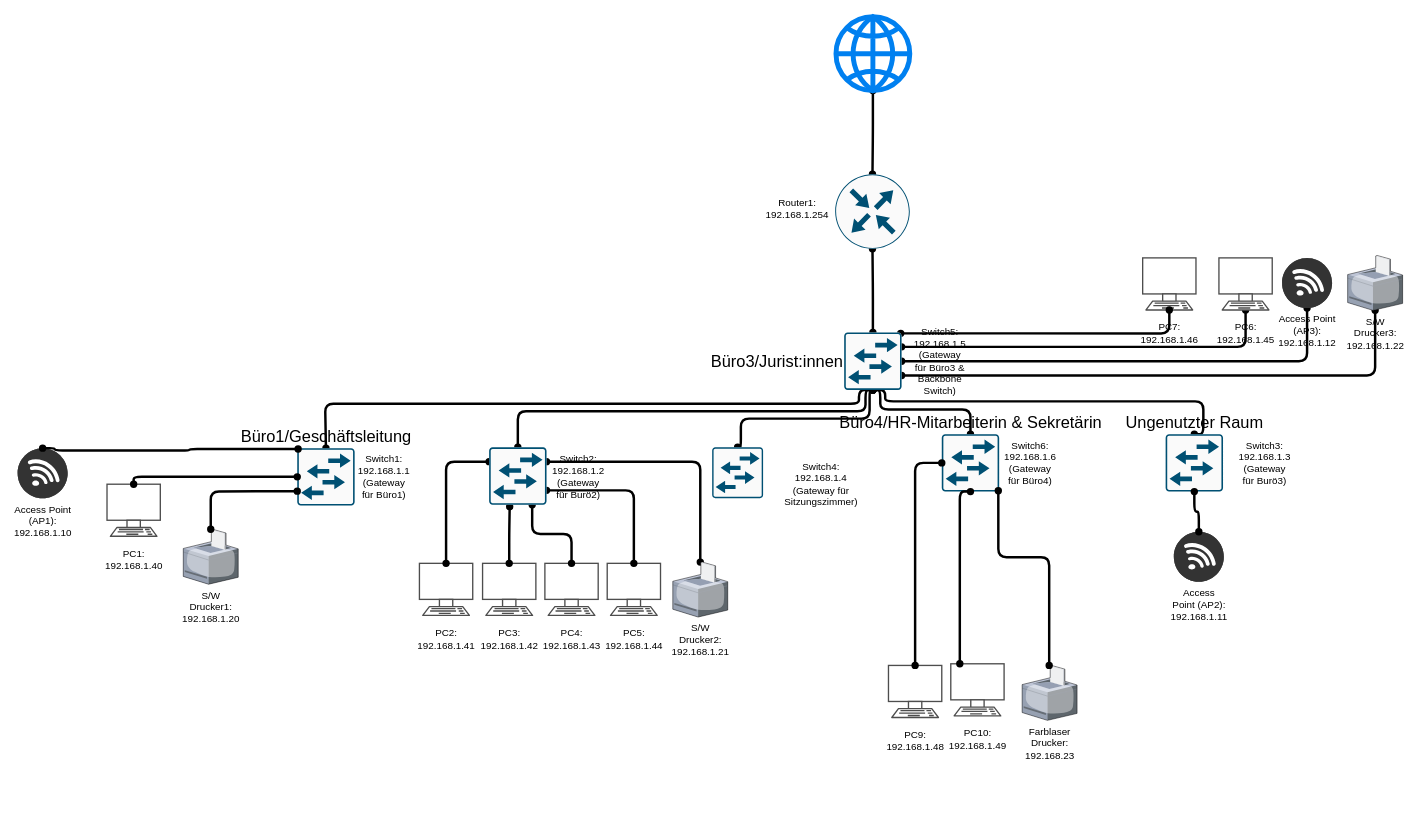
Image size: 1418x835. Some labels were removed from this diagram. The box of each missing label's shape, as (x1, y1, x2, y2) in pixels:
Büro2/Buchalter:innen: (488, 446, 547, 505)
Sitzungszimmer: (711, 446, 763, 498)
